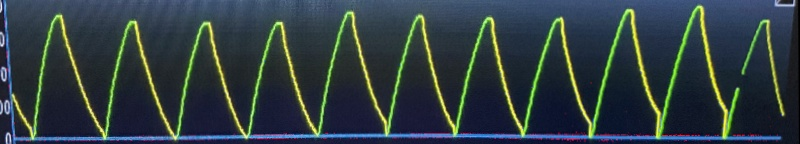leakage: (524, 0, 739, 144)
normal_volume: (19, 0, 511, 143)
